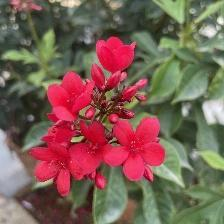jatropha: (106, 115, 166, 187), (45, 71, 95, 124)
